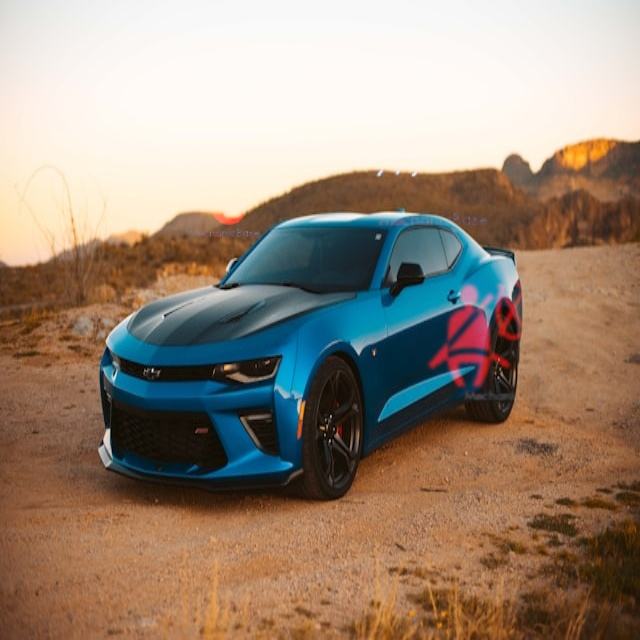symbol: (305, 45, 495, 235), (406, 259, 555, 408), (141, 120, 264, 243)
